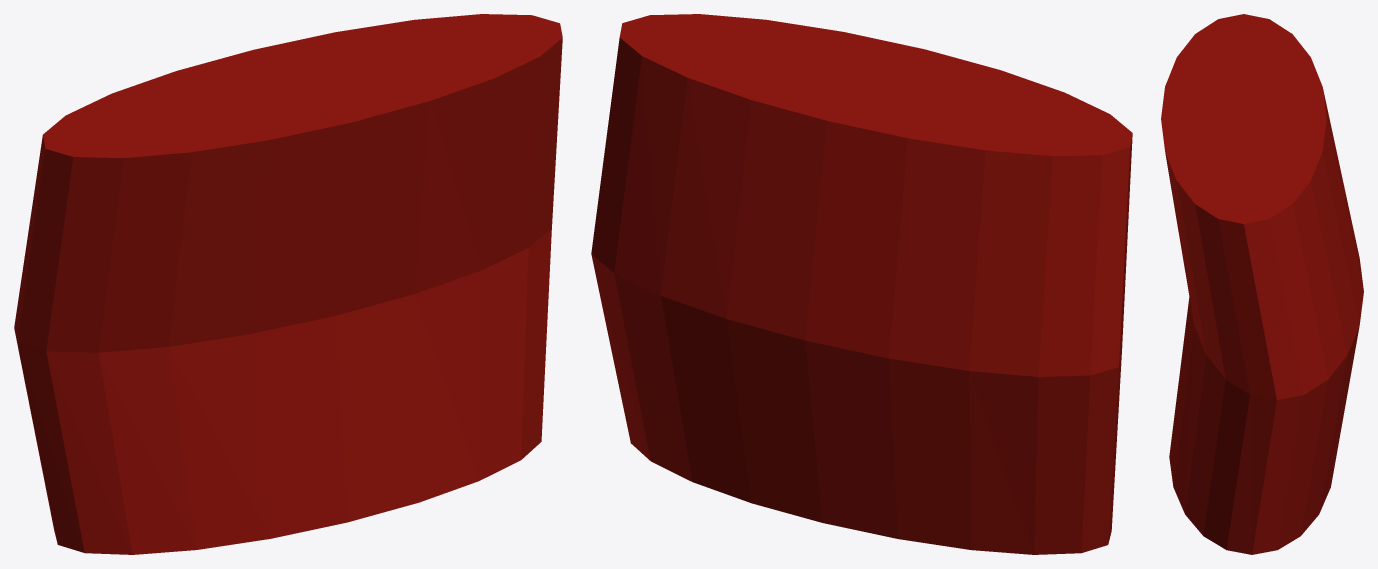
File: HairBack.obj
The picture shows the model from 3 angles, left to right: view 1: azimuth 30°, elevation 25°; view 2: azimuth 150°, elevation 25°; view 3: azimuth 270°, elevation 25°; orthographic projection. The views are drawn at different scales.
Visible parts, largest first — view 1: HairBack; view 2: HairBack; view 3: HairBack.
Boxes of the visible parts, x1,y1,x2,y2 form: HairBack: (14, 14, 562, 554); HairBack: (591, 14, 1132, 554); HairBack: (1161, 14, 1363, 554).
Bounding box in the file's own units: 0.62 × 0.45 × 0.245.
